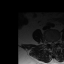CCS_normal: (51, 40, 53, 47)
LFS_normal: (55, 39, 57, 44)
LLS_normal: (53, 40, 55, 45)
RFS_normal: (48, 40, 50, 45)
RLS_normal: (50, 40, 52, 46)
